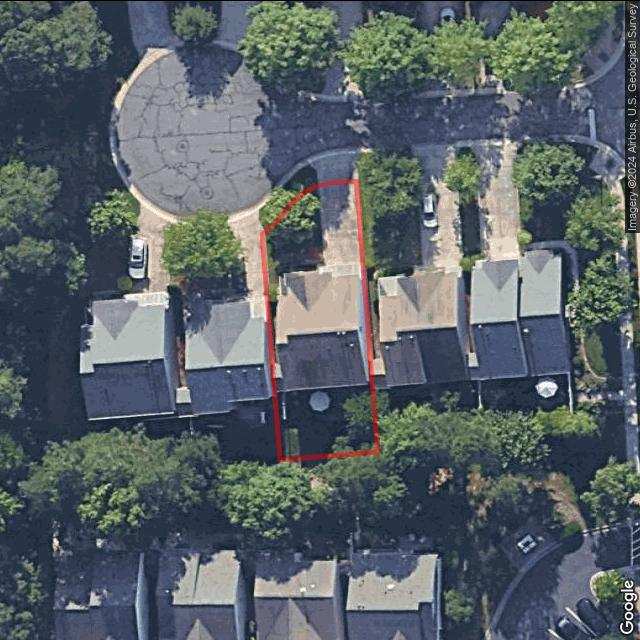Driveway: (319, 181, 363, 267)
Extra-Driveway: (308, 151, 359, 184)
Extra-Lawn: (260, 164, 320, 231)
House: (275, 263, 370, 389)
Lawn: (263, 181, 378, 459)
Other: (310, 389, 330, 410)
Sidewalk: (287, 256, 323, 277)
